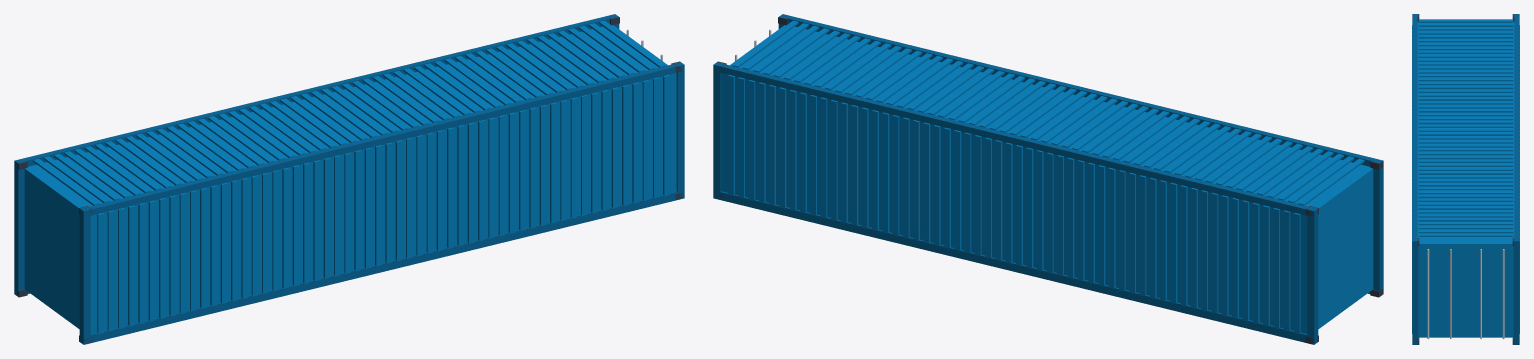
File: container_40ft.glb
3 views of the same model, side by side, from view 1: azimuth 30°, elevation 25°; view 2: azimuth 150°, elevation 25°; view 3: azimuth 270°, elevation 25° (orthographic). The views are drawn at different scales.
Parts seen in each view (by area): view 1: Container_40ft_ISO668; view 2: Container_40ft_ISO668; view 3: Container_40ft_ISO668.
Part boxes in pixels (x1,y1,x2,y2): Container_40ft_ISO668: [14, 14, 684, 344]; Container_40ft_ISO668: [713, 14, 1383, 344]; Container_40ft_ISO668: [1412, 14, 1519, 344].
Size of the model in its own units: 12.26 by 2.59 by 2.44.
